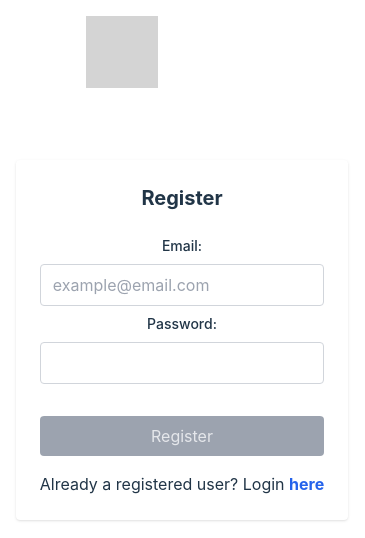
it: RegisterLogin Component › Switching forms › switches to the Login form when user clicks the link
This screenshot has width=365, height=538.
Click the link "here" at (307, 484), box [289,474,324,494]
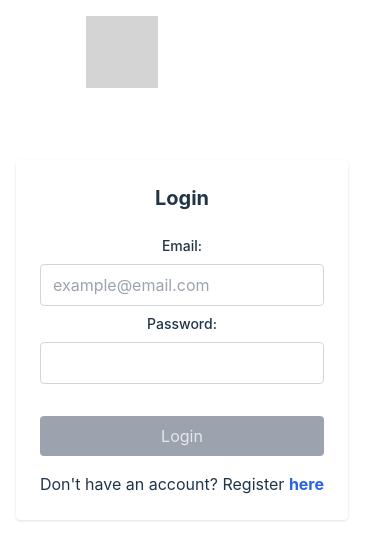
Result: the heading "Login" is shown at [155,186,209,210]
